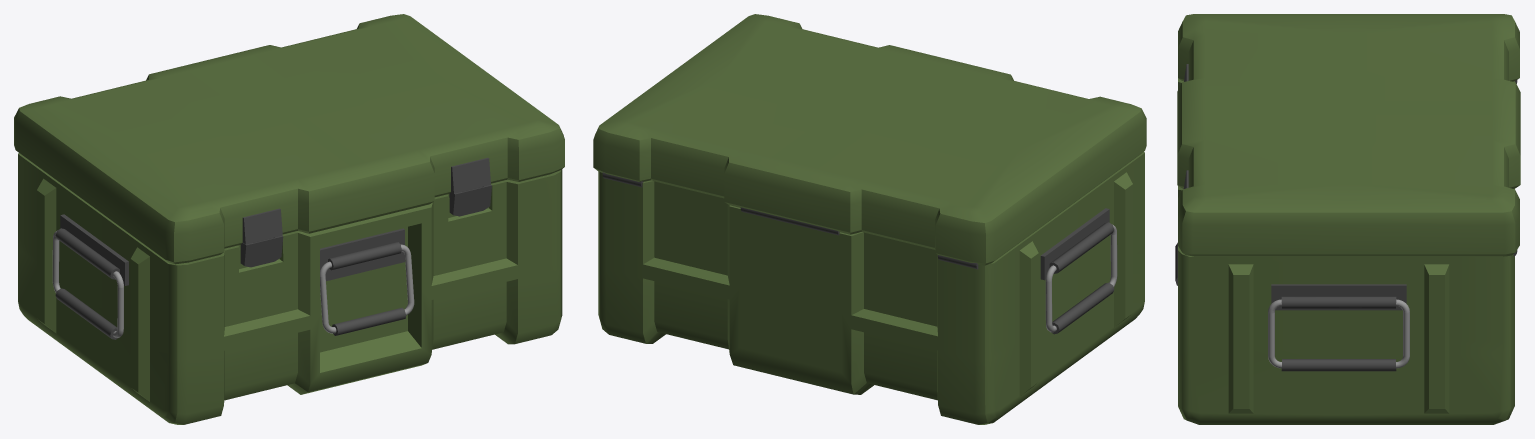
Rendered from SM_MunitionBox01.fbx.
The picture shows the model from 3 angles, left to right: view 1: azimuth 30°, elevation 25°; view 2: azimuth 150°, elevation 25°; view 3: azimuth 270°, elevation 25°; orthographic projection. The views are drawn at different scales.
Visible parts, largest first — view 1: SM_MunitionBox01; view 2: SM_MunitionBox01; view 3: SM_MunitionBox01.
Part boxes in pixels (bbox=[...]): SM_MunitionBox01: bbox=[14, 14, 564, 424]; SM_MunitionBox01: bbox=[593, 14, 1146, 424]; SM_MunitionBox01: bbox=[1175, 14, 1520, 424].
Size of the model in its own units: 70.38 by 34.13 by 47.97.
